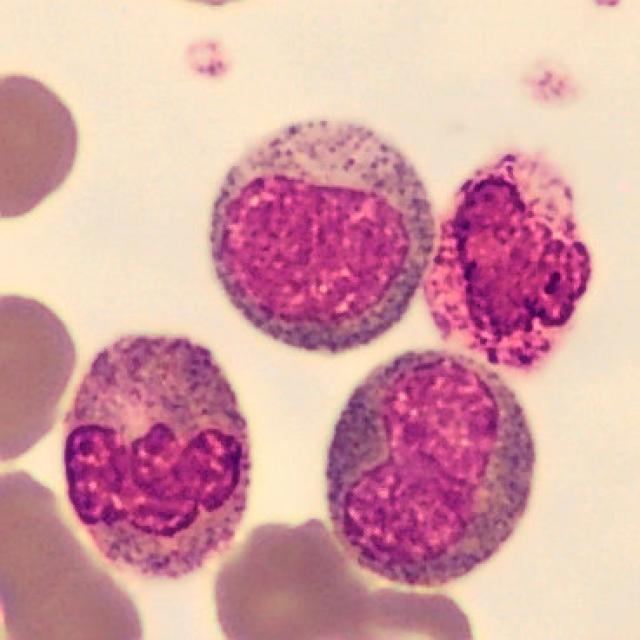Metamielocito: (323, 351, 536, 590)
Mielocito: (209, 119, 437, 356)
